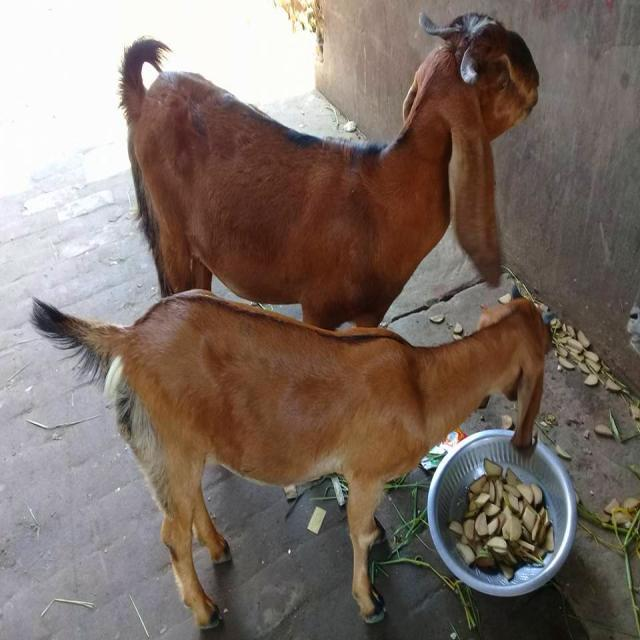Goat: (30, 287, 554, 630), (118, 10, 541, 332)
